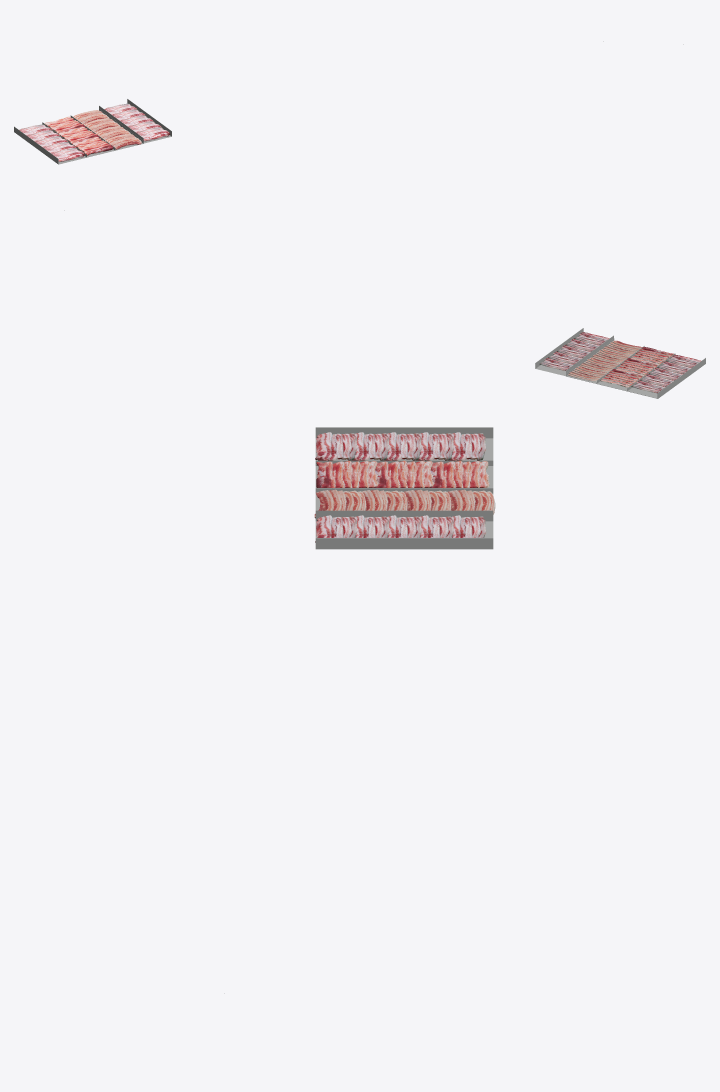
The model's file is RawMeat.fbx.
3 views of the same model, one above another, from view 1: azimuth 30°, elevation 25°; view 2: azimuth 150°, elevation 25°; view 3: azimuth 270°, elevation 25° (orthographic). The views are drawn at different scales.
Parts seen in each view (by area): view 1: Group52.001, Compone218.001, Compone217.001, Compone213.001; view 2: Group52.001, Compone218.001, Compone213.001, Compone217.001; view 3: Group52.001, Compone218.001, Compone213.001, Compone217.001.
Part boxes in pixels (box(x1,y1,x2,y2)): Group52.001: box(14, 99, 171, 164); Compone218.001: box(72, 137, 113, 155); Compone217.001: box(58, 126, 99, 143); Compone213.001: box(45, 116, 85, 133); Group52.001: box(535, 328, 705, 398); Compone218.001: box(630, 347, 673, 365); Compone213.001: box(600, 369, 642, 387); Compone217.001: box(615, 358, 657, 376); Group52.001: box(314, 427, 495, 549); Compone218.001: box(316, 460, 378, 488); Compone213.001: box(428, 460, 489, 488); Compone217.001: box(373, 460, 433, 488).
Size of the model in its own units: 24593 by 682 by 4561.
5 materials, 3 textured.
